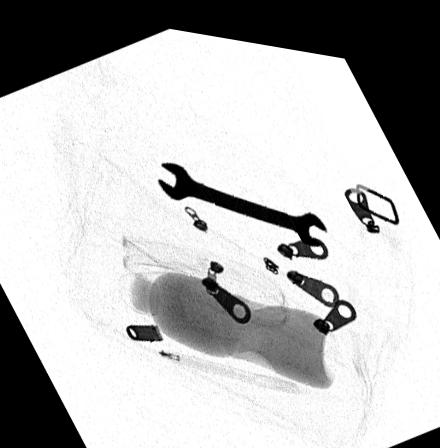Wrench: (157, 154, 326, 237)
